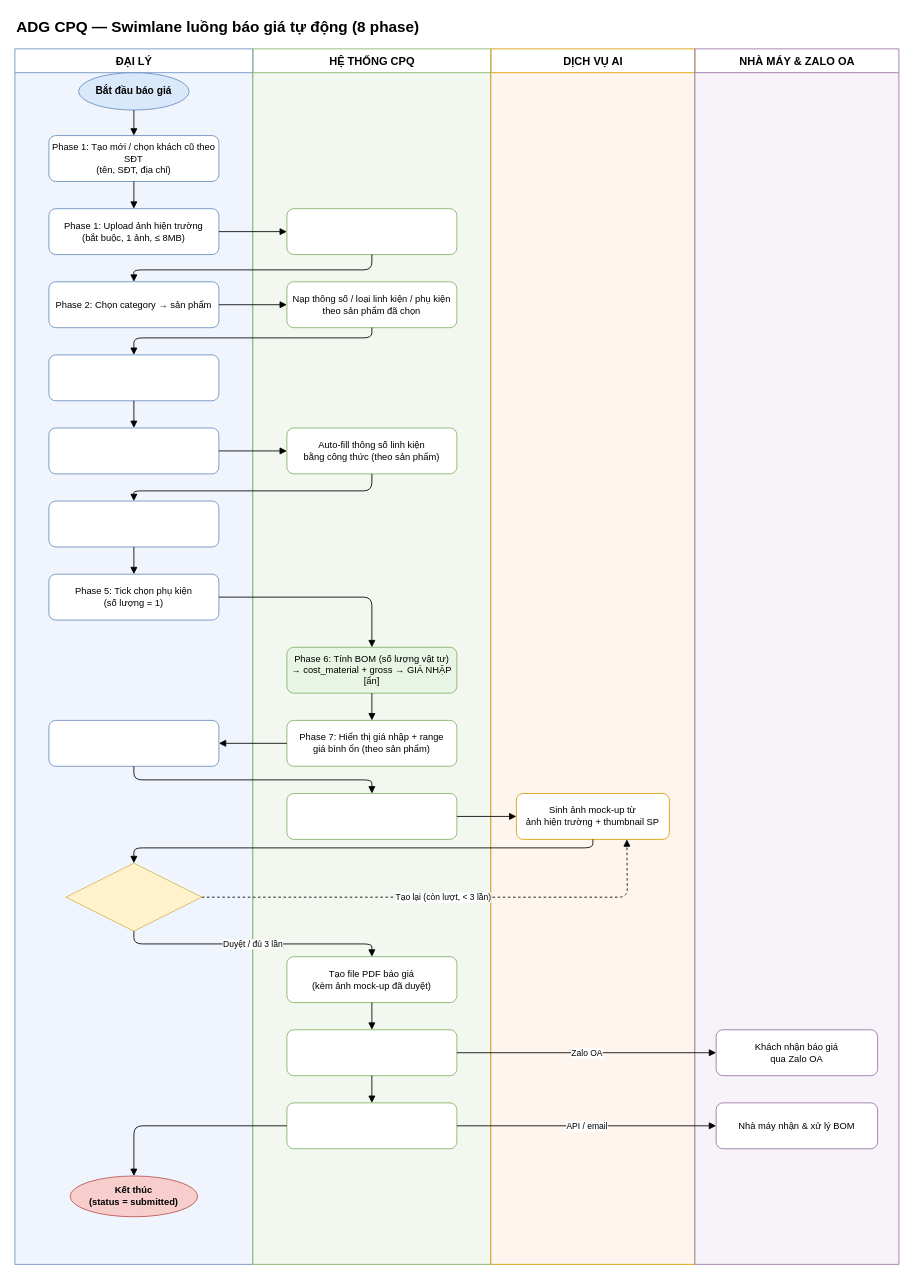
The diagram is 914 pixels wide and 1279 high, and some of its shapes have lost their labels. Each missing label, with the centre of its shape:
"Gửi PDF báo giá cho khách cuối" belongs at point (371, 1052).
"Gửi phiếu BOM về nhà máy" belongs at point (371, 1125).
"Kiểm tra ảnh & lưu nháp" belongs at point (371, 231).
"Phase 3: Điền thông số dự án (freeform / dropdown)" belongs at point (133, 377).
"Phase 4: Chọn SKU linh kiện cho từng loại linh kiện" belongs at point (133, 450).
"Phase 4: Điều chỉnh lại thông số linh kiện (nếu cần)" belongs at point (133, 523).
"Phase 7: Chọn giá bán trong range cho phép" belongs at point (133, 743).
"Phase 8: Gọi dịch vụ AI ghép mock-up" belongs at point (371, 816).
"Đại lý duyệt ảnh mock-up?" belongs at point (133, 896).
